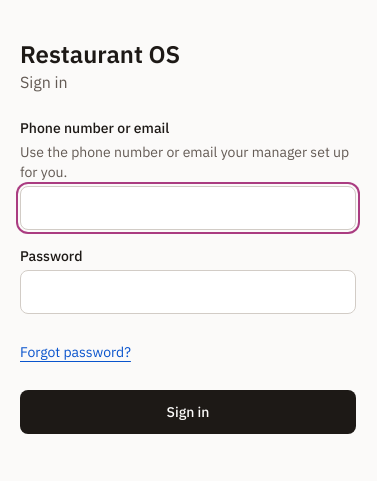
a forgotten password › says who can set a new one
This screenshot has width=377, height=481.
Click the button "Forgot password?".
click(75, 352)  # box x1=20 y1=330 x2=131 y2=374
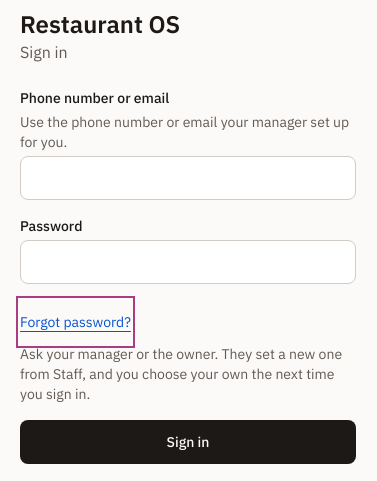
Check: the text "Ask your manager" is shown, box x1=20 y1=345 x2=342 y2=403
